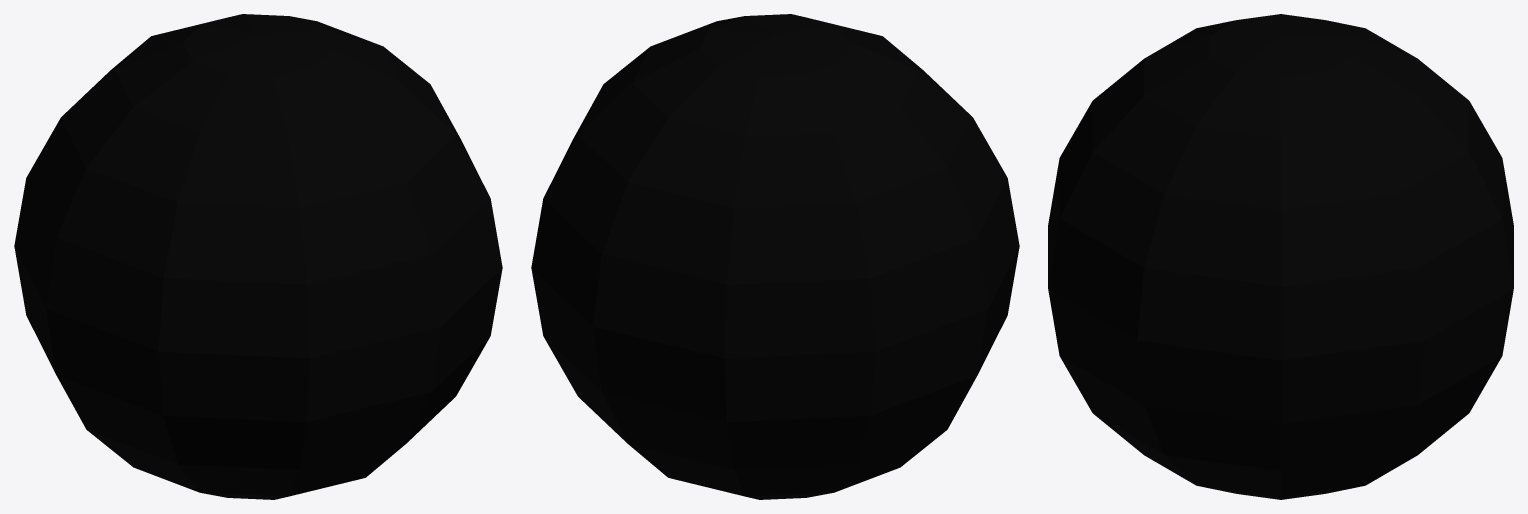
Rendered from Xgun_bullet.obj.
3 views of the same model, side by side, from view 1: azimuth 30°, elevation 25°; view 2: azimuth 150°, elevation 25°; view 3: azimuth 270°, elevation 25° (orthographic).
Visible parts, largest first — view 1: pSphere1; view 2: pSphere1; view 3: pSphere1.
Part boxes in pixels (x1,y1,x2,y2): pSphere1: (14, 14, 502, 499); pSphere1: (531, 14, 1019, 499); pSphere1: (1048, 14, 1513, 499).
Size of the model in its own units: 1 by 1 by 0.9511.
1 material, 1 textured.
